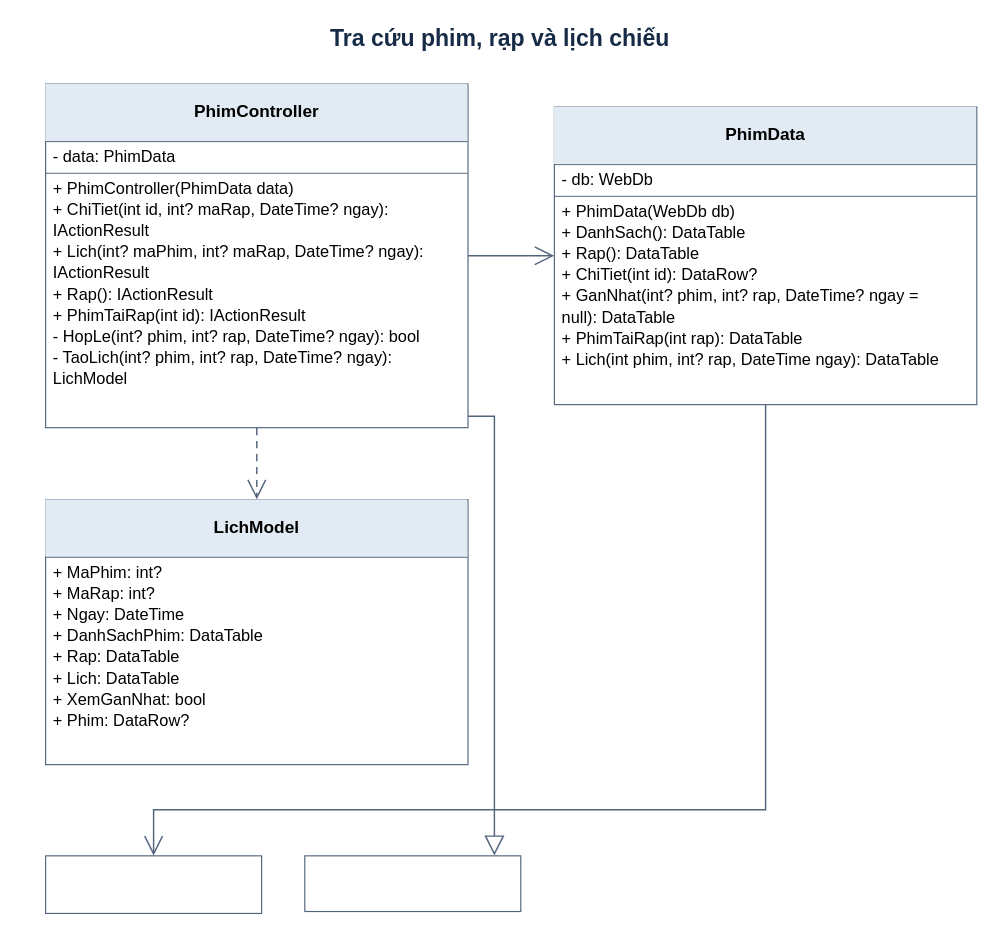
This 997x930 diagram has some shape labels left out. Each missing label, with the centre of its shape:
WebDb: (153,884)
«framework» Controller: (412,883)
